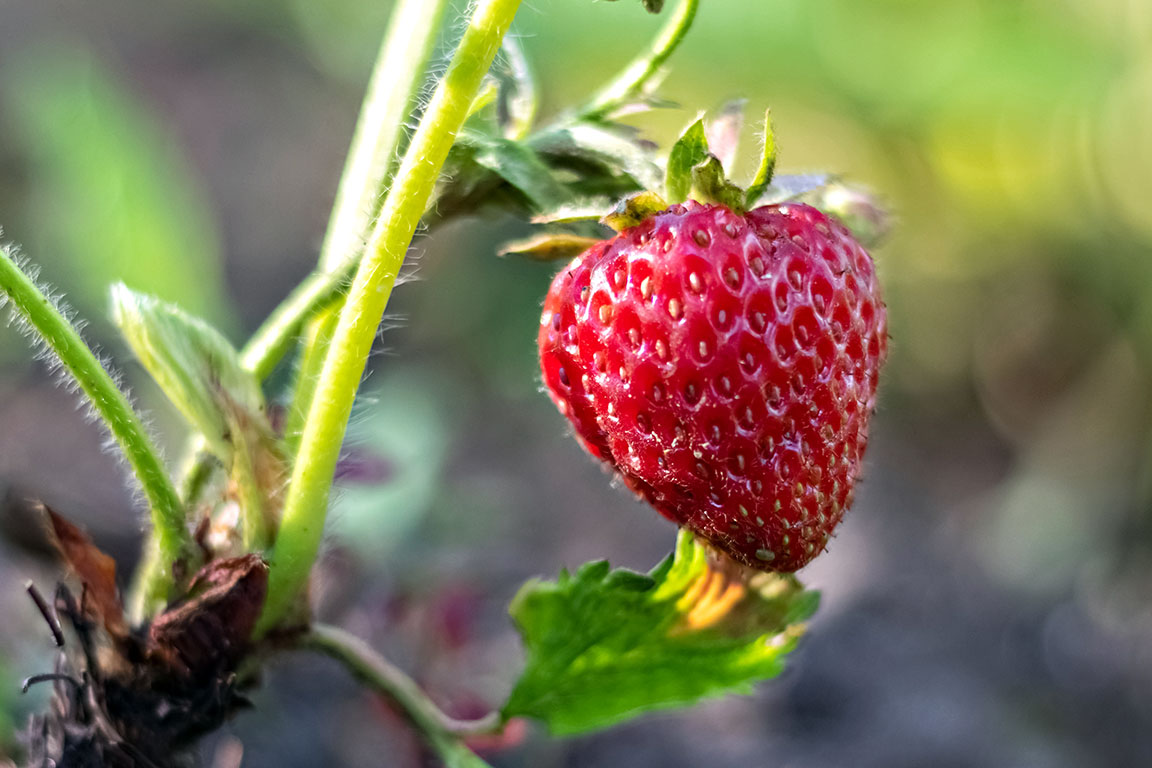ripe: (527, 191, 908, 577)
